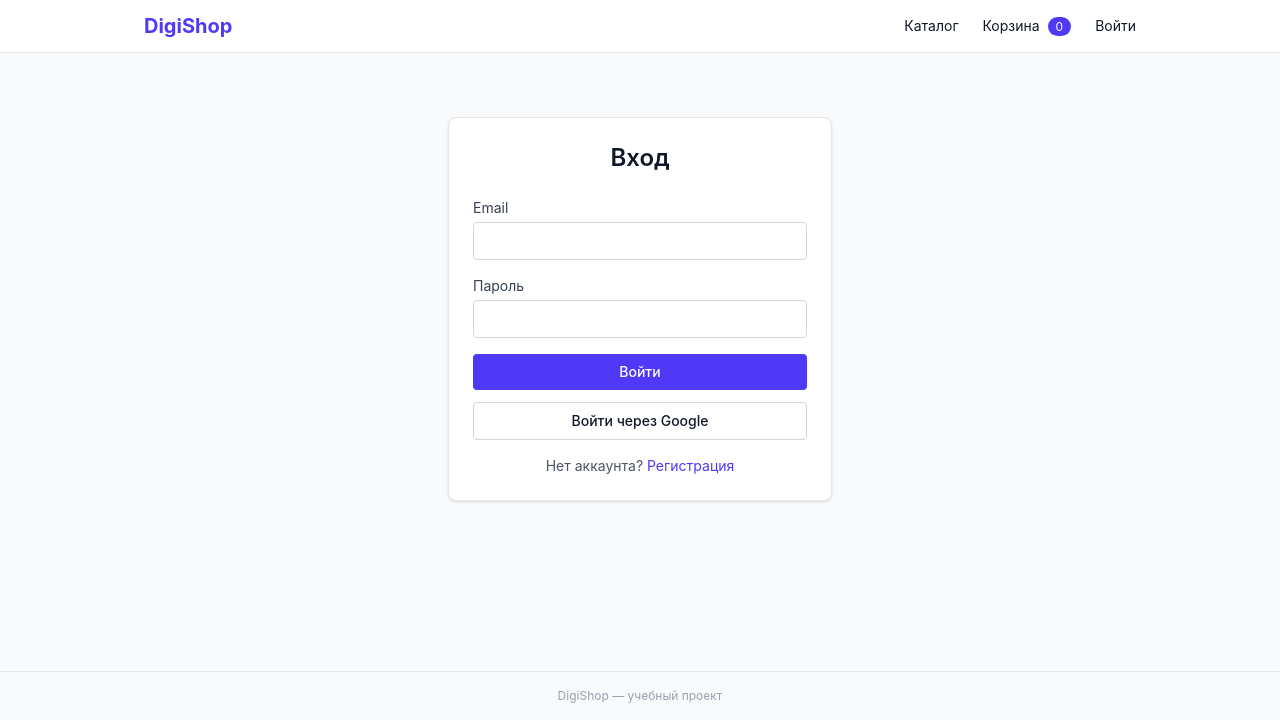
Test: Login читает location.state.from и перенаправляет туда после успеха
Type "user@example.com" into the field labelled "Email" at (640, 241), box [473,222,807,260]
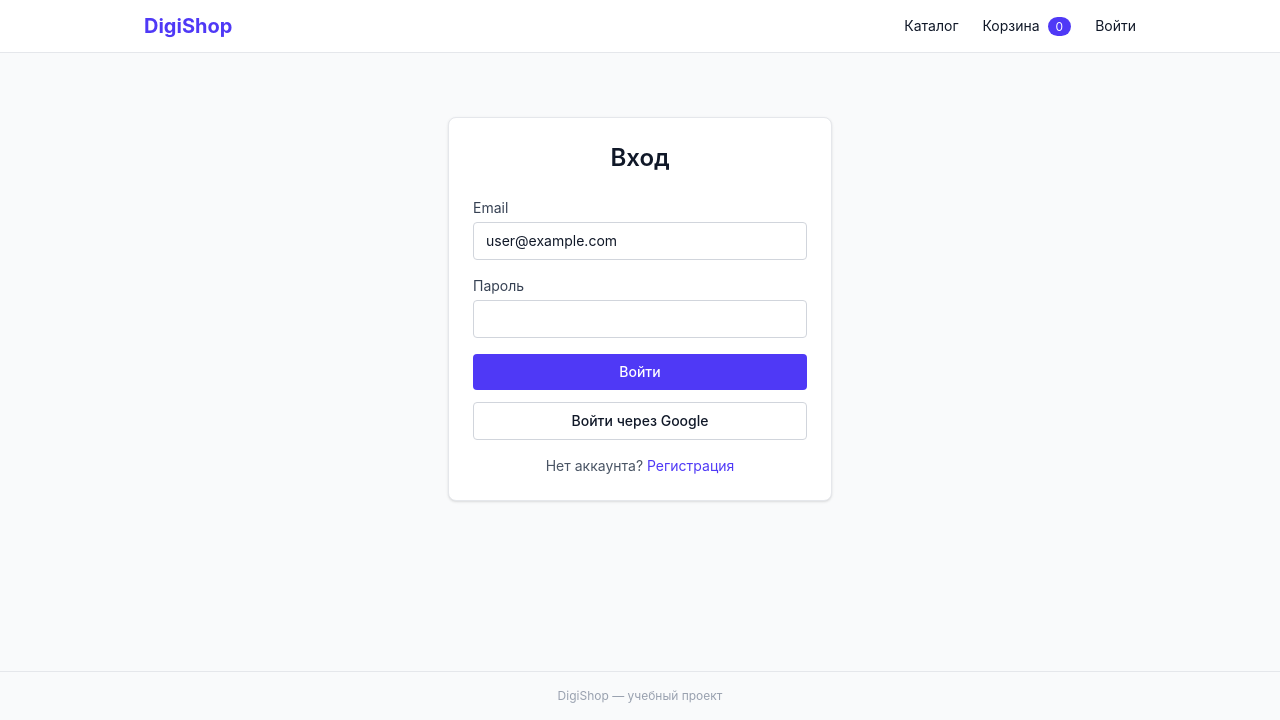
Type "password1" into the password field labelled "Пароль" at (640, 319), box [473,300,807,338]
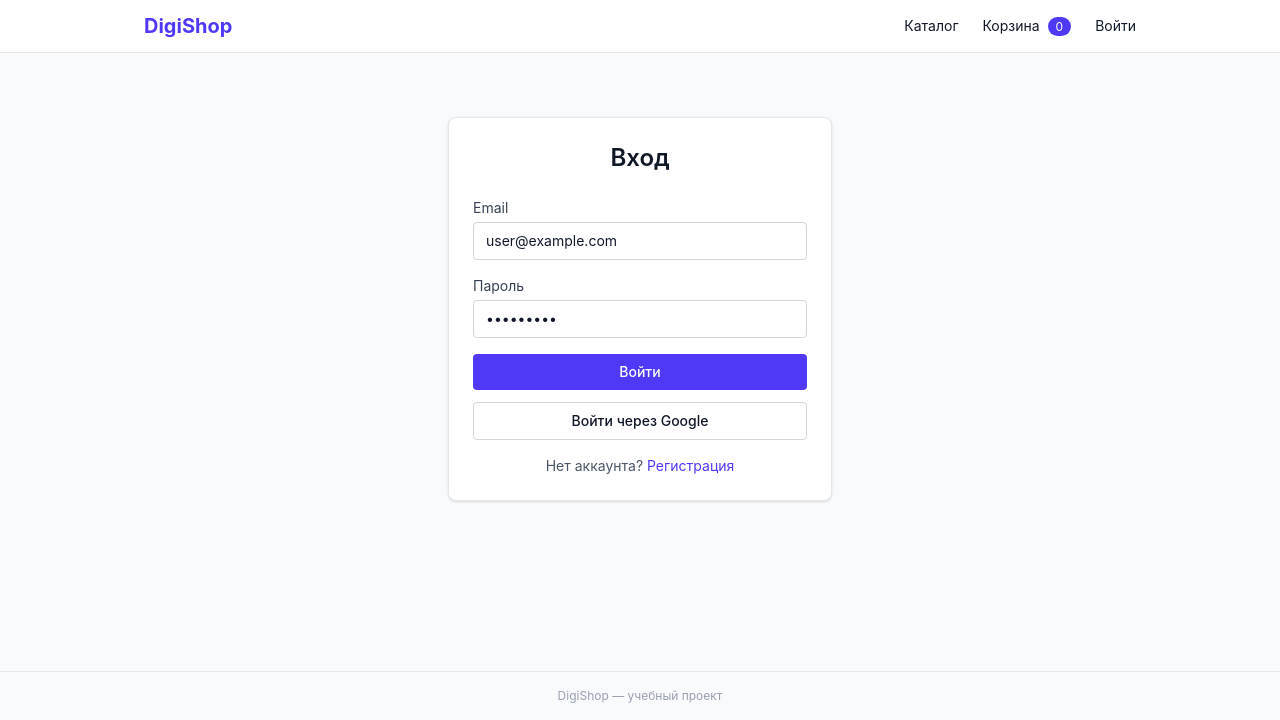
Click the button "Войти" at (640, 372), box [473,354,807,390]
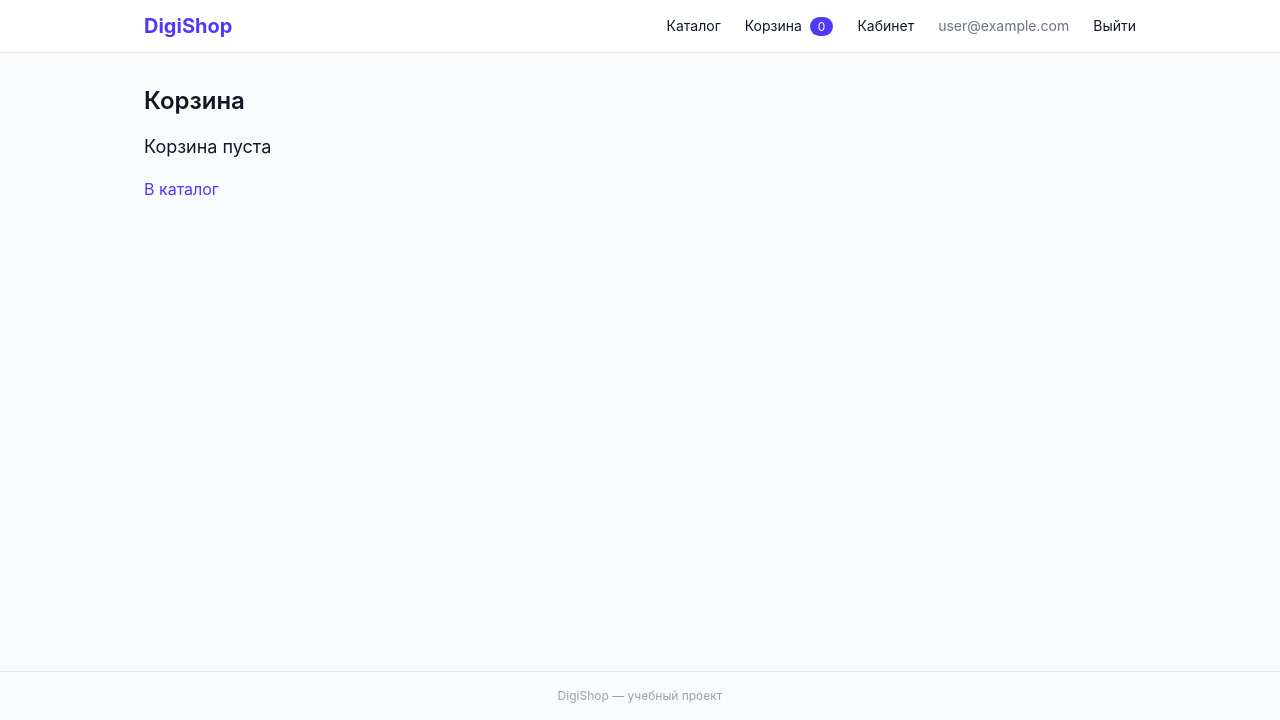
expect the heading "Корзина" is shown: met, box [144,86,245,115]
